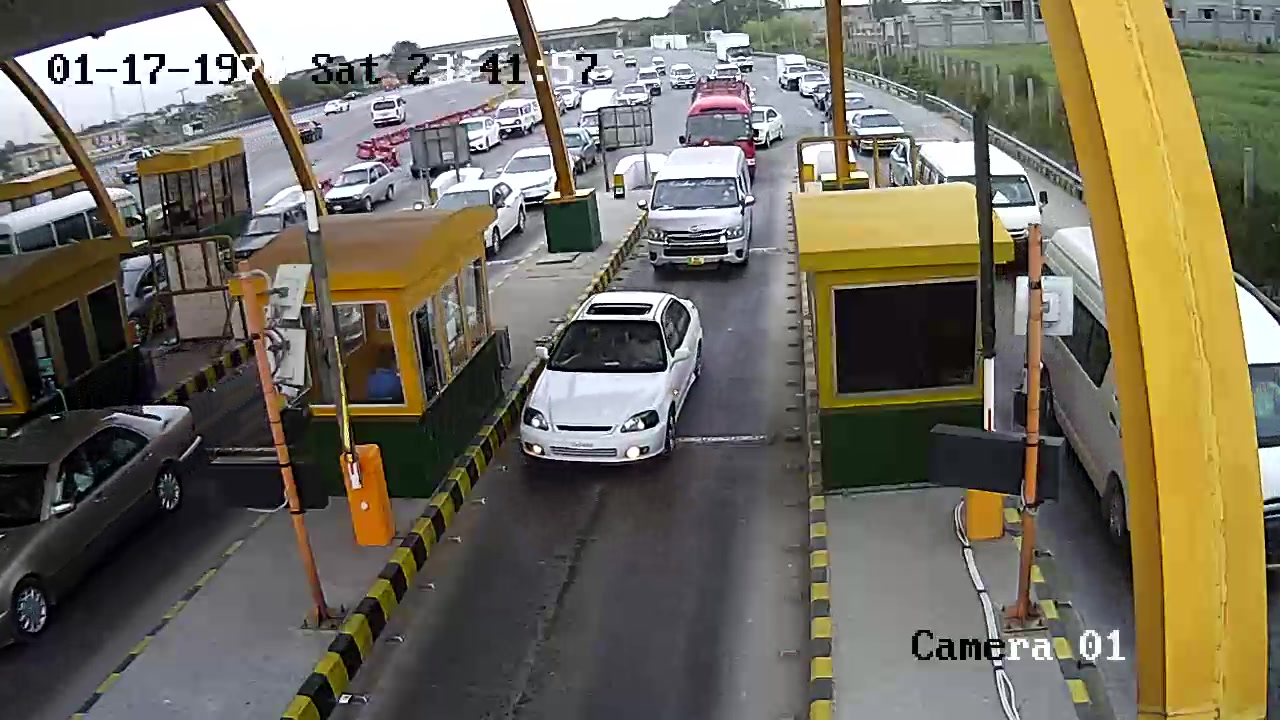F1: (511, 288, 709, 479)
F2: (642, 146, 769, 282)
